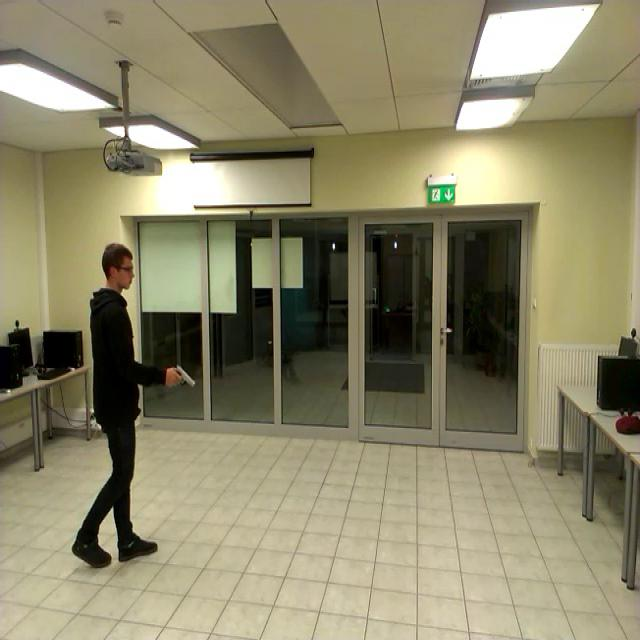handgun: (168, 362, 195, 395)
